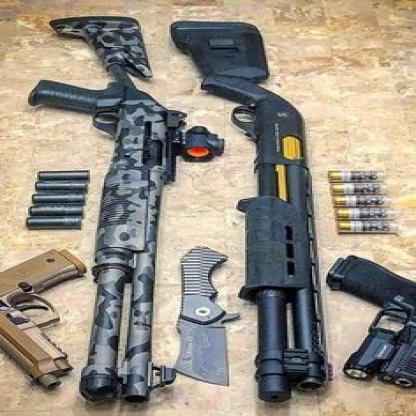Gun: (29, 12, 229, 406), (169, 19, 336, 402)
Knife: (171, 244, 242, 388)
Pistol: (322, 252, 416, 391), (0, 247, 89, 389)
